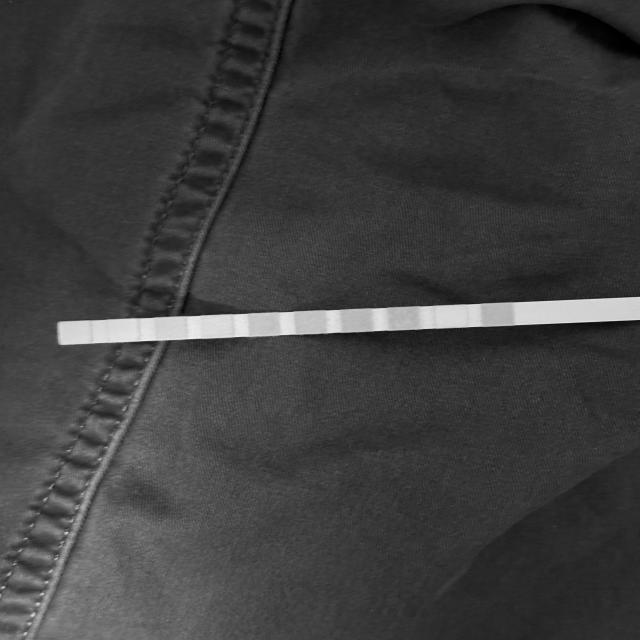Bilirubin: (436, 306, 465, 327)
Blood: (297, 312, 325, 333)
Glucose: (484, 304, 514, 326)
Ketone: (390, 308, 418, 329)
Leukocytes: (60, 322, 90, 343)
Nitrite: (111, 321, 138, 342)
Protein: (203, 316, 231, 336)
SpGravity: (343, 310, 371, 331)
Urobilinogen: (156, 318, 186, 339)
background: (0, 0, 640, 640)
pH: (250, 314, 278, 335)
strip: (57, 297, 635, 345)
